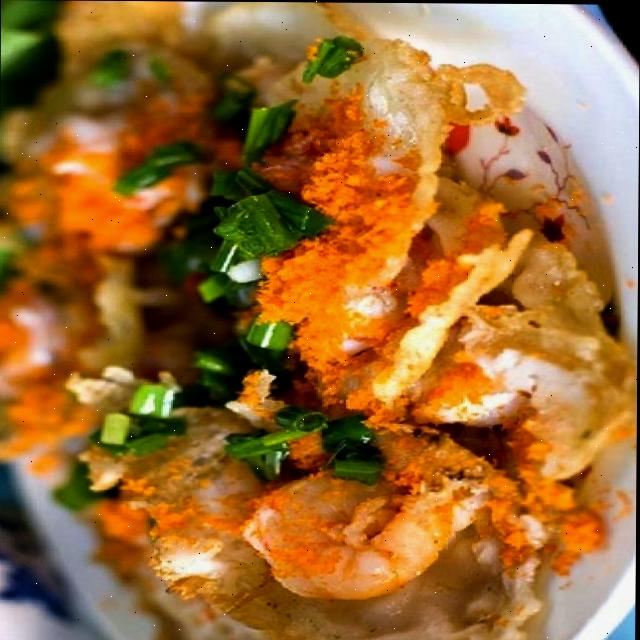炸货点心: (0, 11, 620, 640)
熟制海鲜: (0, 11, 620, 640)
